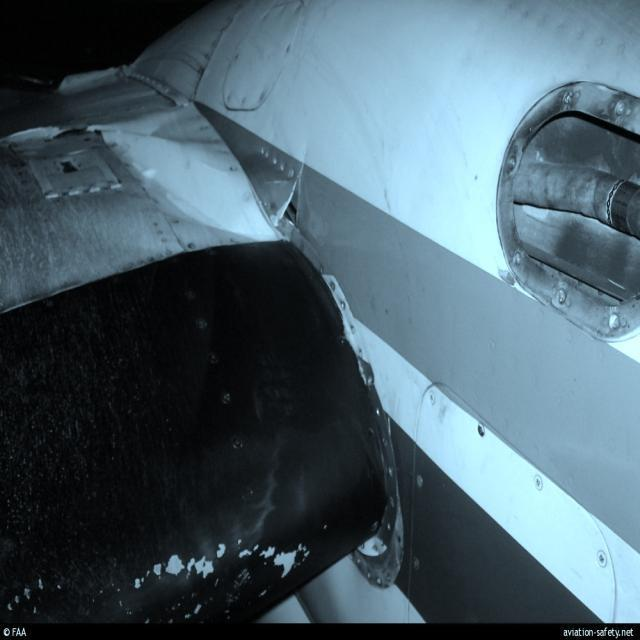crack: (273, 171, 306, 226)
